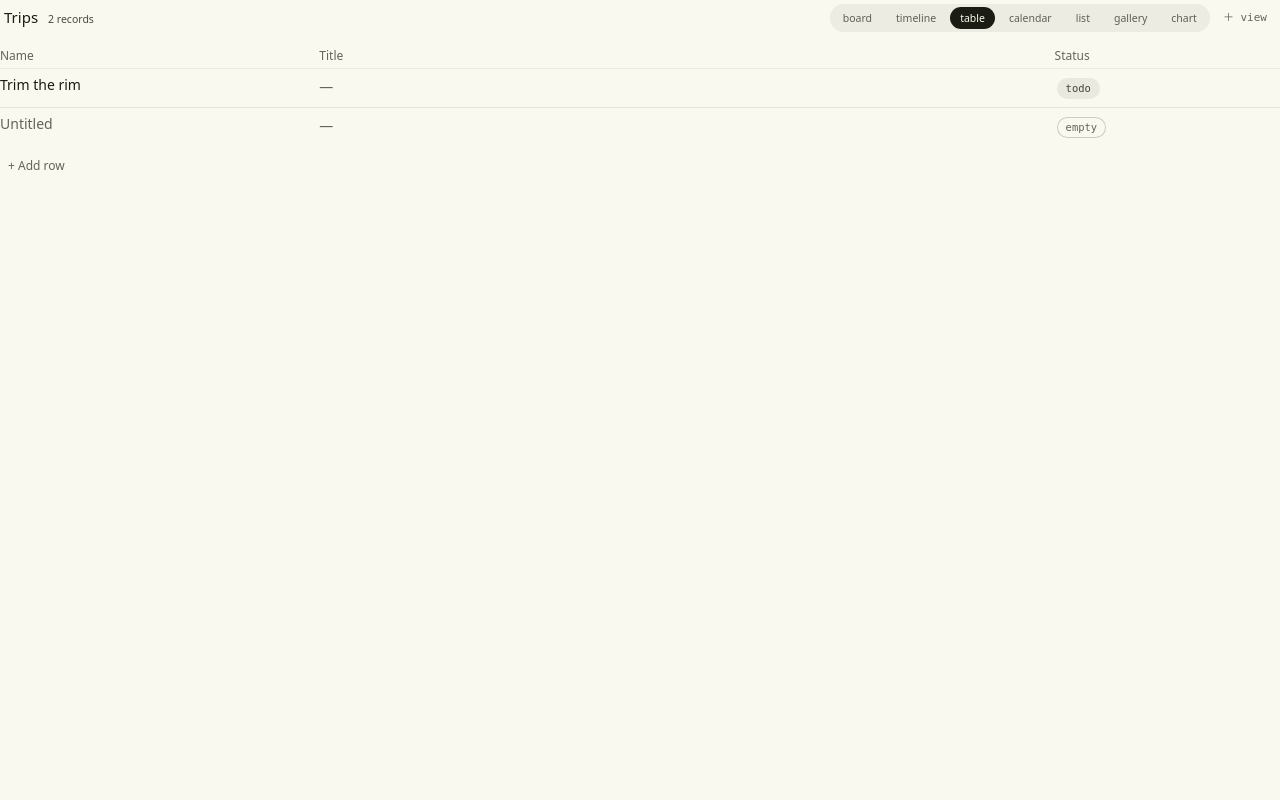
Test case: CollectionTable — clicking a row's title opens its record (KAN-546) › an empty title opens "Record: Untitled"
The width and height of the screenshot is (1280, 800).
Click the field named "Row title" at (26, 124), box [0,114,53,134]
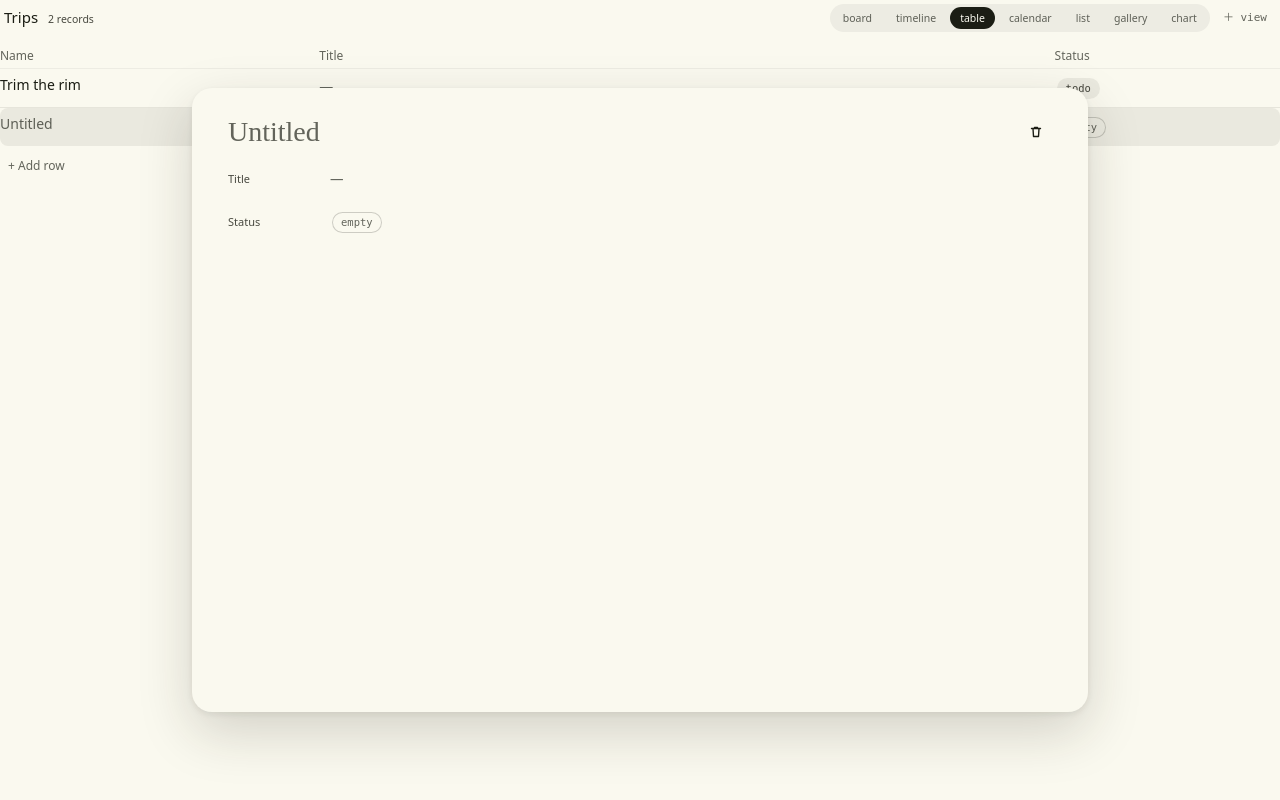
expect the element named "Record: Untitled" is shown: met, box [192,88,1088,712]
